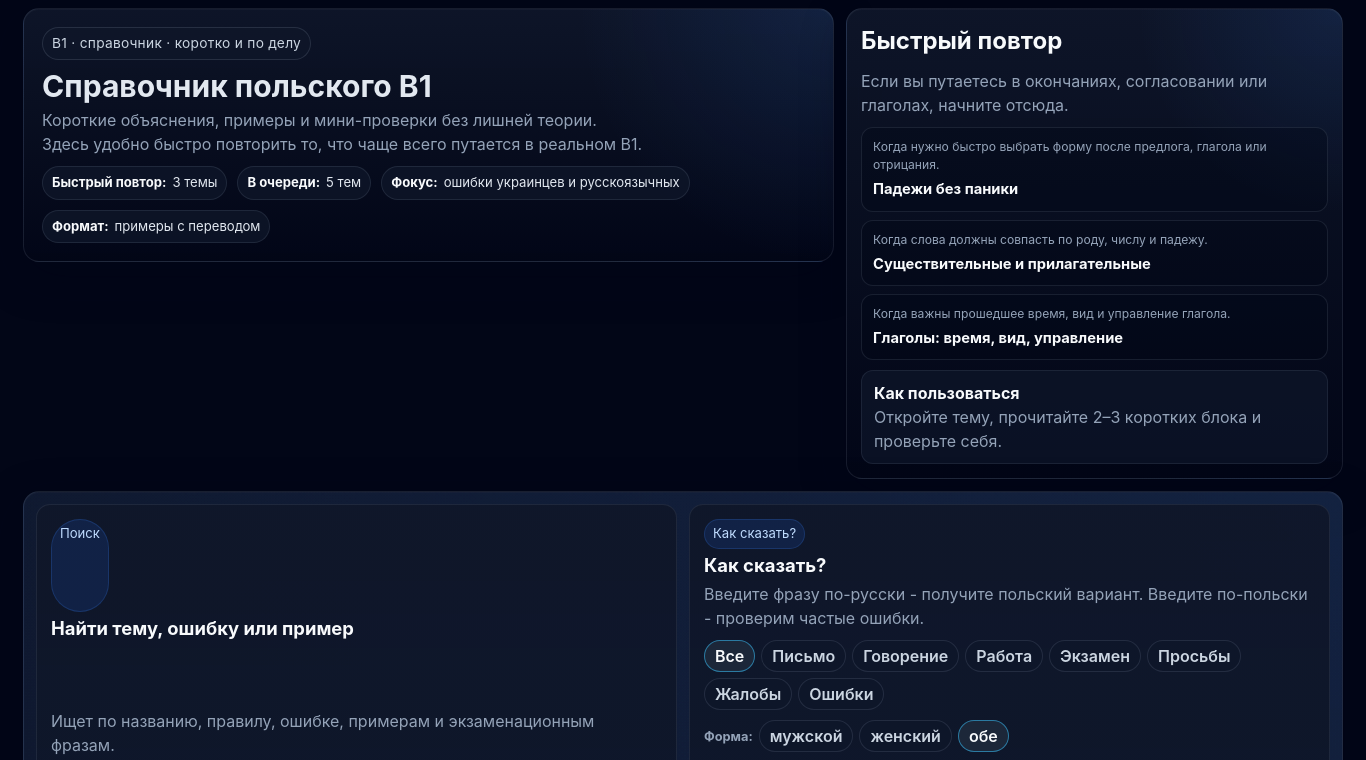
Test case: GrammarB1Screen › renders category buttons and popular templates
Expected: the button "Работа" is shown, [965, 640, 1043, 672]
Expected: the button "Экзамен" is shown, [1049, 640, 1141, 672]
Click the button "Письмо": [804, 656] box [761, 640, 846, 672]
(page scrolled)
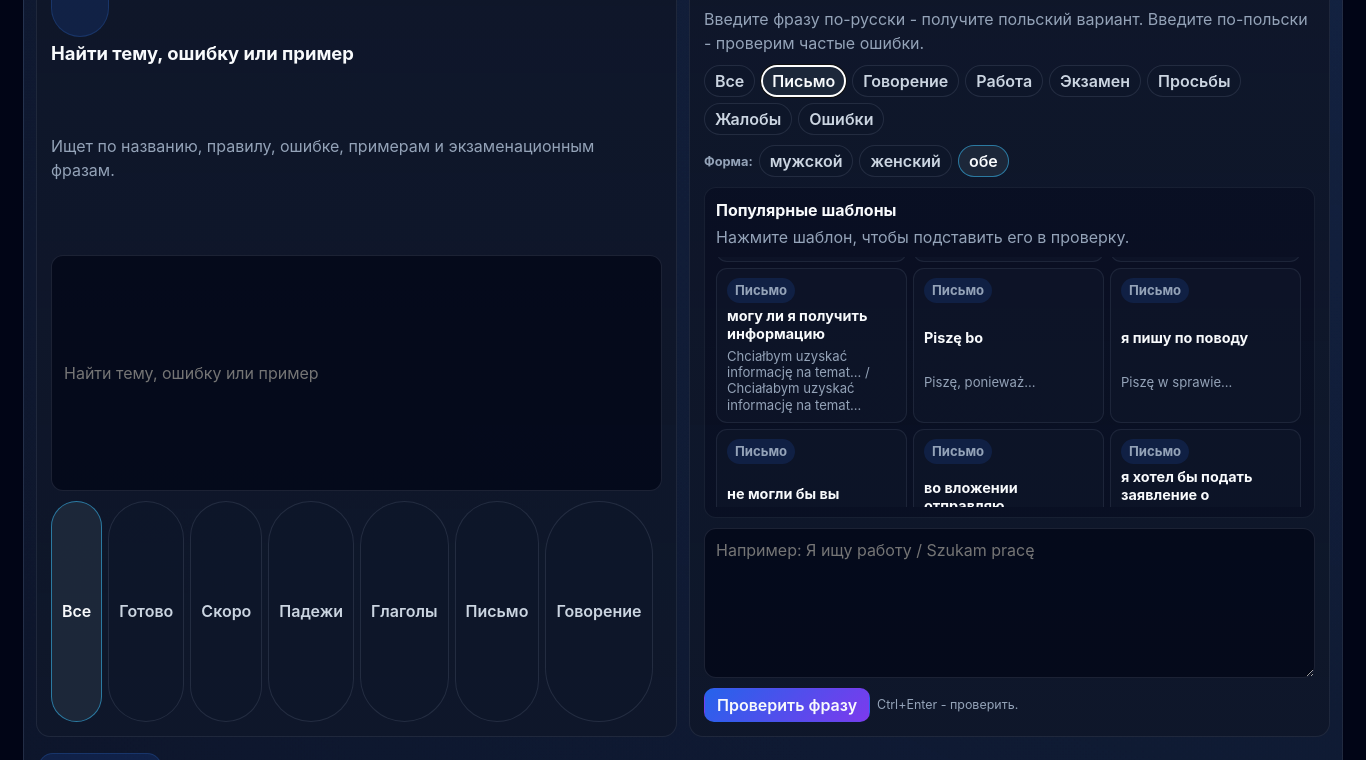
Expected: the text "Популярные шаблоны" is shown, [716, 200, 896, 220]
Expected: the text "Piszę w sprawie..." is shown, [1121, 374, 1232, 390]
